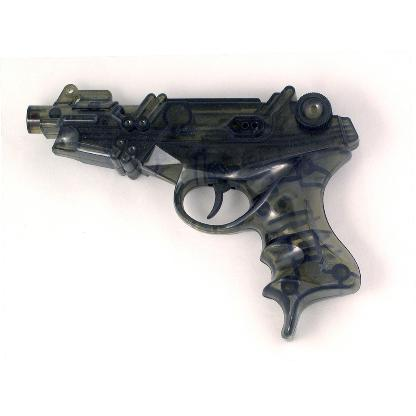gun: (26, 82, 360, 338)
